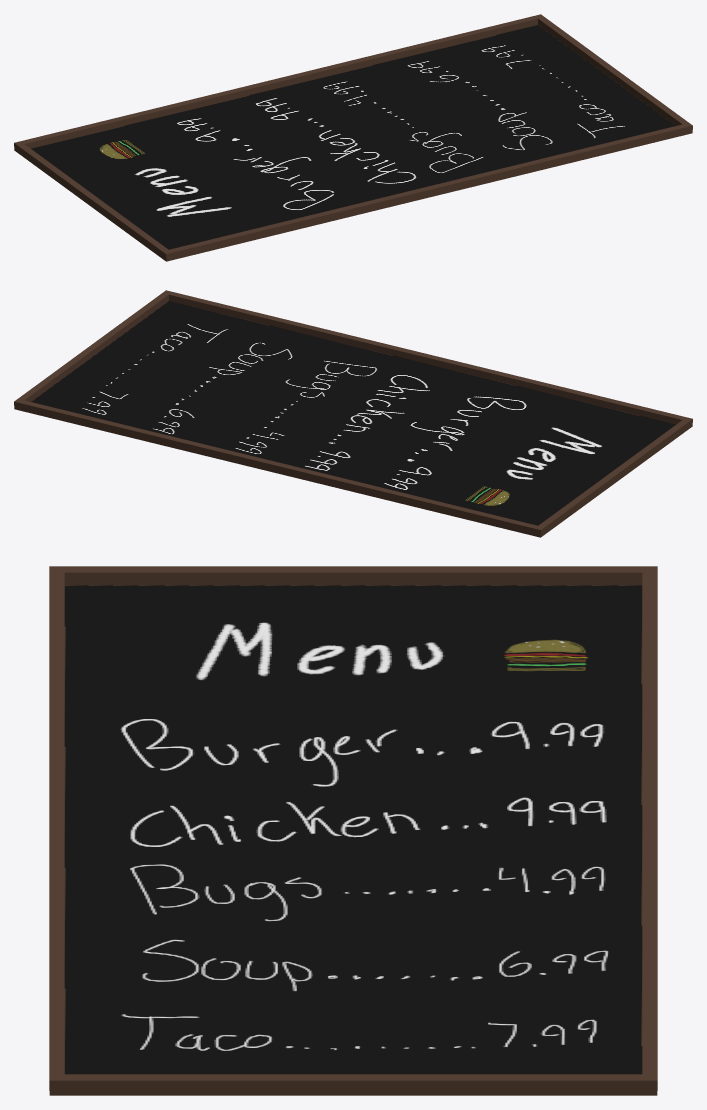
File: kitchenlayout.gltf
3 views of the same model, one above another, from view 1: azimuth 30°, elevation 25°; view 2: azimuth 150°, elevation 25°; view 3: azimuth 270°, elevation 25° (orthographic). The views are drawn at different scales.
Parts seen in each view (by area): view 1: Plane; view 2: Plane; view 3: Plane.
Boxes of the visible parts, box(x1,y1,x2,y2) form: Plane: box(14, 14, 692, 261); Plane: box(14, 290, 692, 537); Plane: box(49, 566, 657, 1095).
Bounding box in the file's own units: 18.5 × 0.2569 × 9.25.
1 material, 1 textured.
